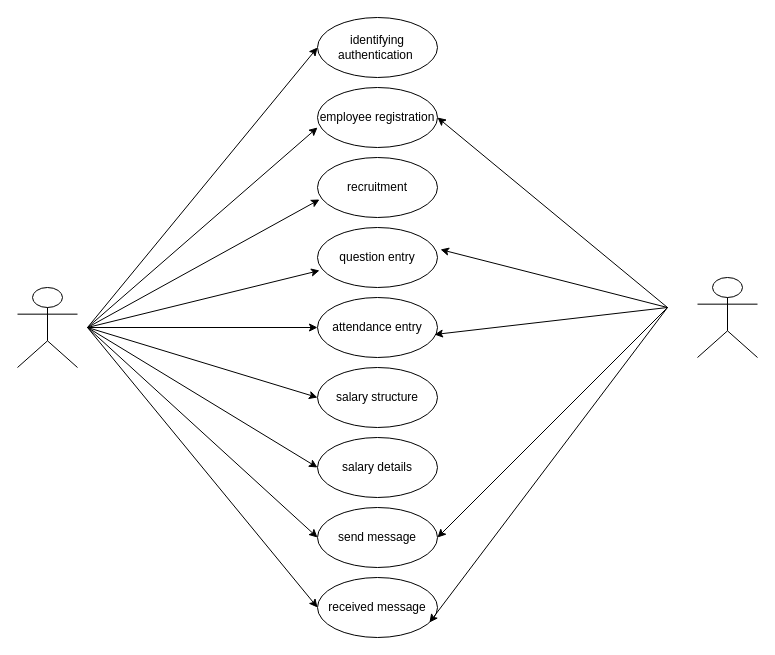
This 775x655 diagram has some shape labels left out. The centre of each missing label's shape, as x and y in pixels:
"admin(HR)" goes at (47,327).
"employee" goes at (727,317).
